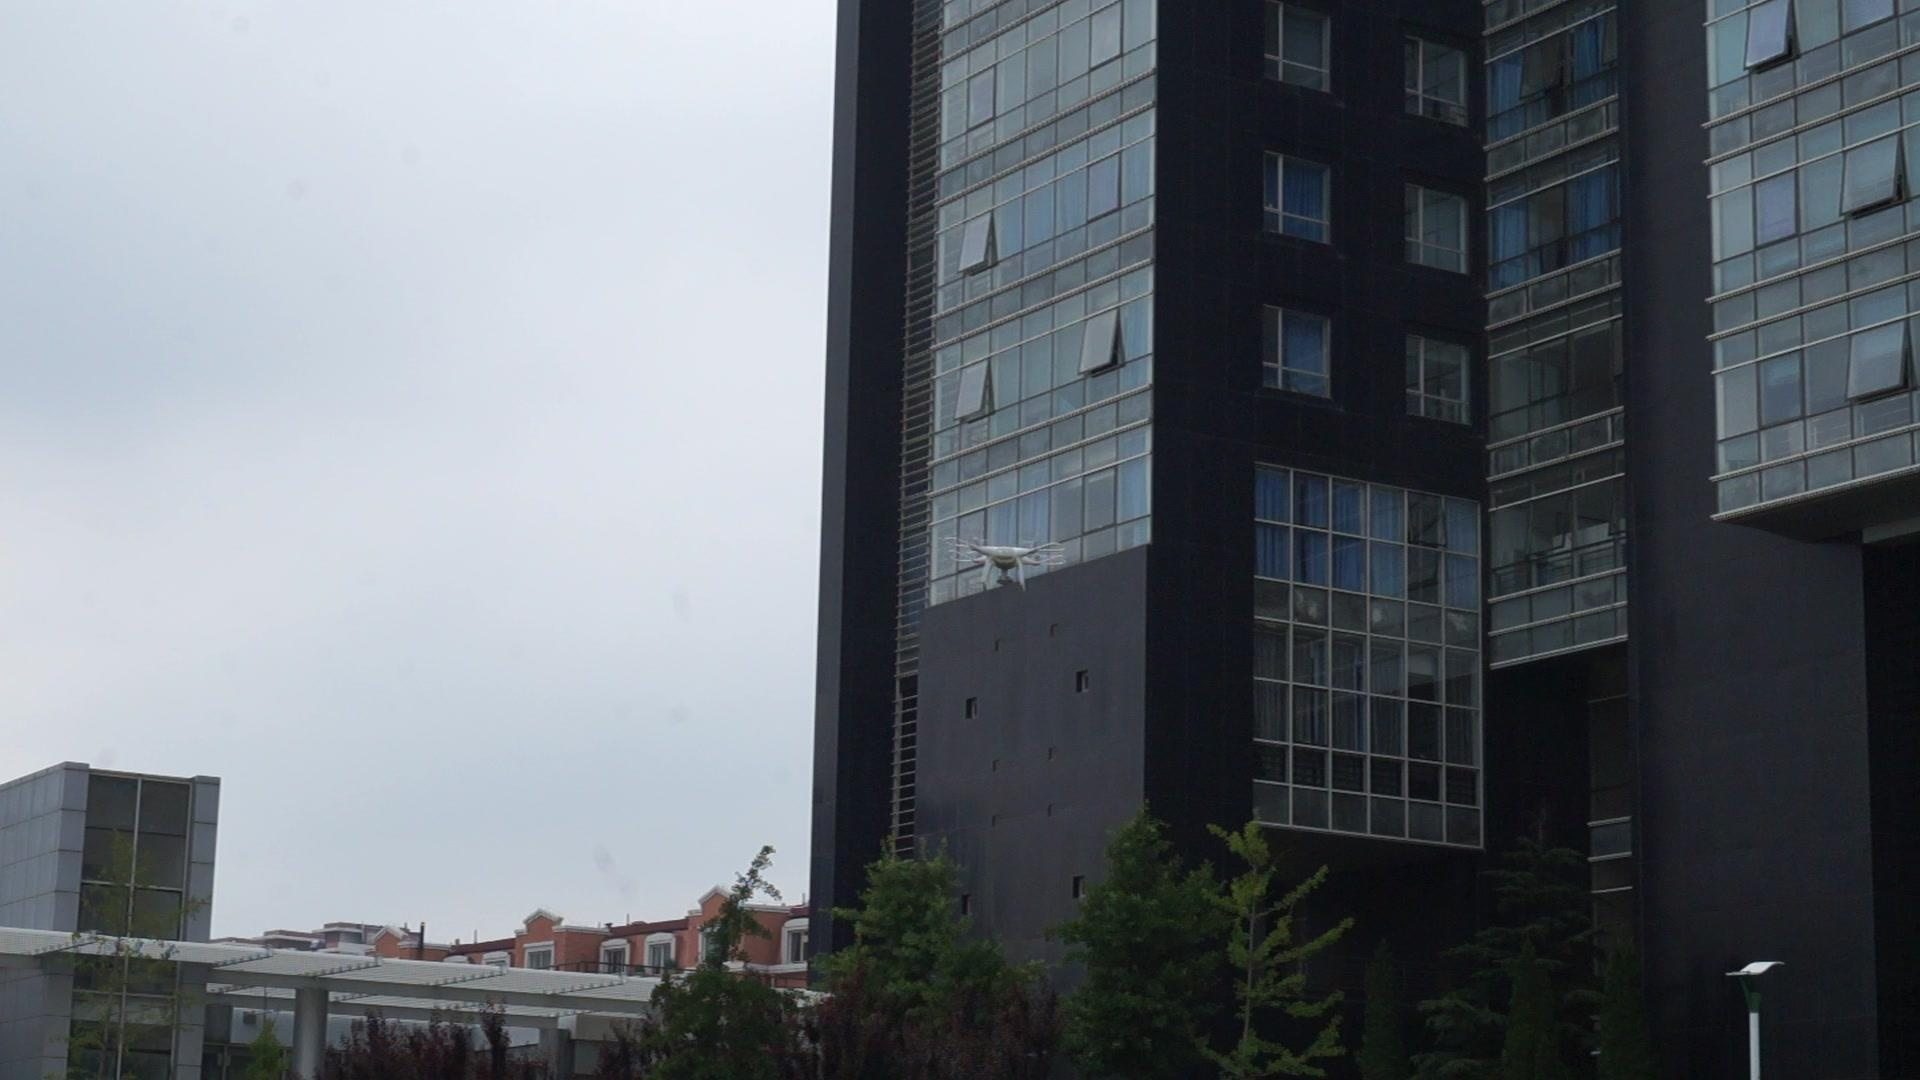UAV: (943, 535, 1065, 593)
